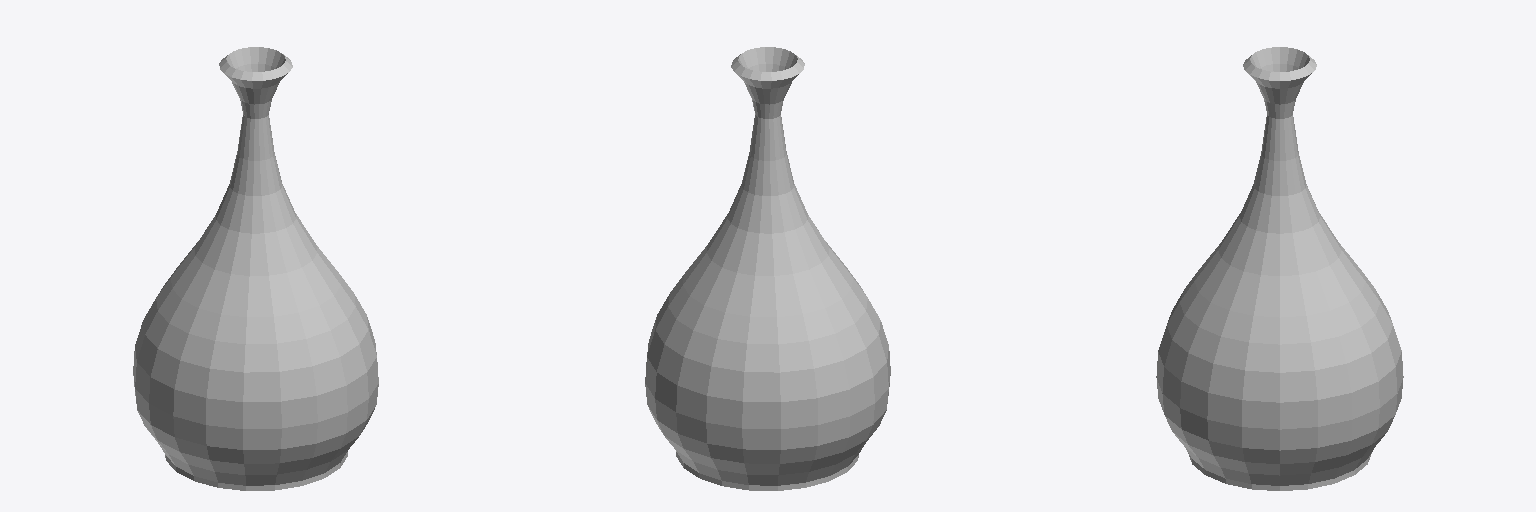
The model's file is vase_texture.obj.
3 views of the same model, side by side, from view 1: azimuth 30°, elevation 25°; view 2: azimuth 150°, elevation 25°; view 3: azimuth 270°, elevation 25° (orthographic).
Parts seen in each view (by area): view 1: pCylinder1; view 2: pCylinder1; view 3: pCylinder1.
Part boxes in pixels (x1,y1,x2,y2): pCylinder1: (133,47,378,490); pCylinder1: (645,47,890,490); pCylinder1: (1156,47,1403,490).
Bounding box in the file's own units: 2.68 × 4.7 × 2.68.